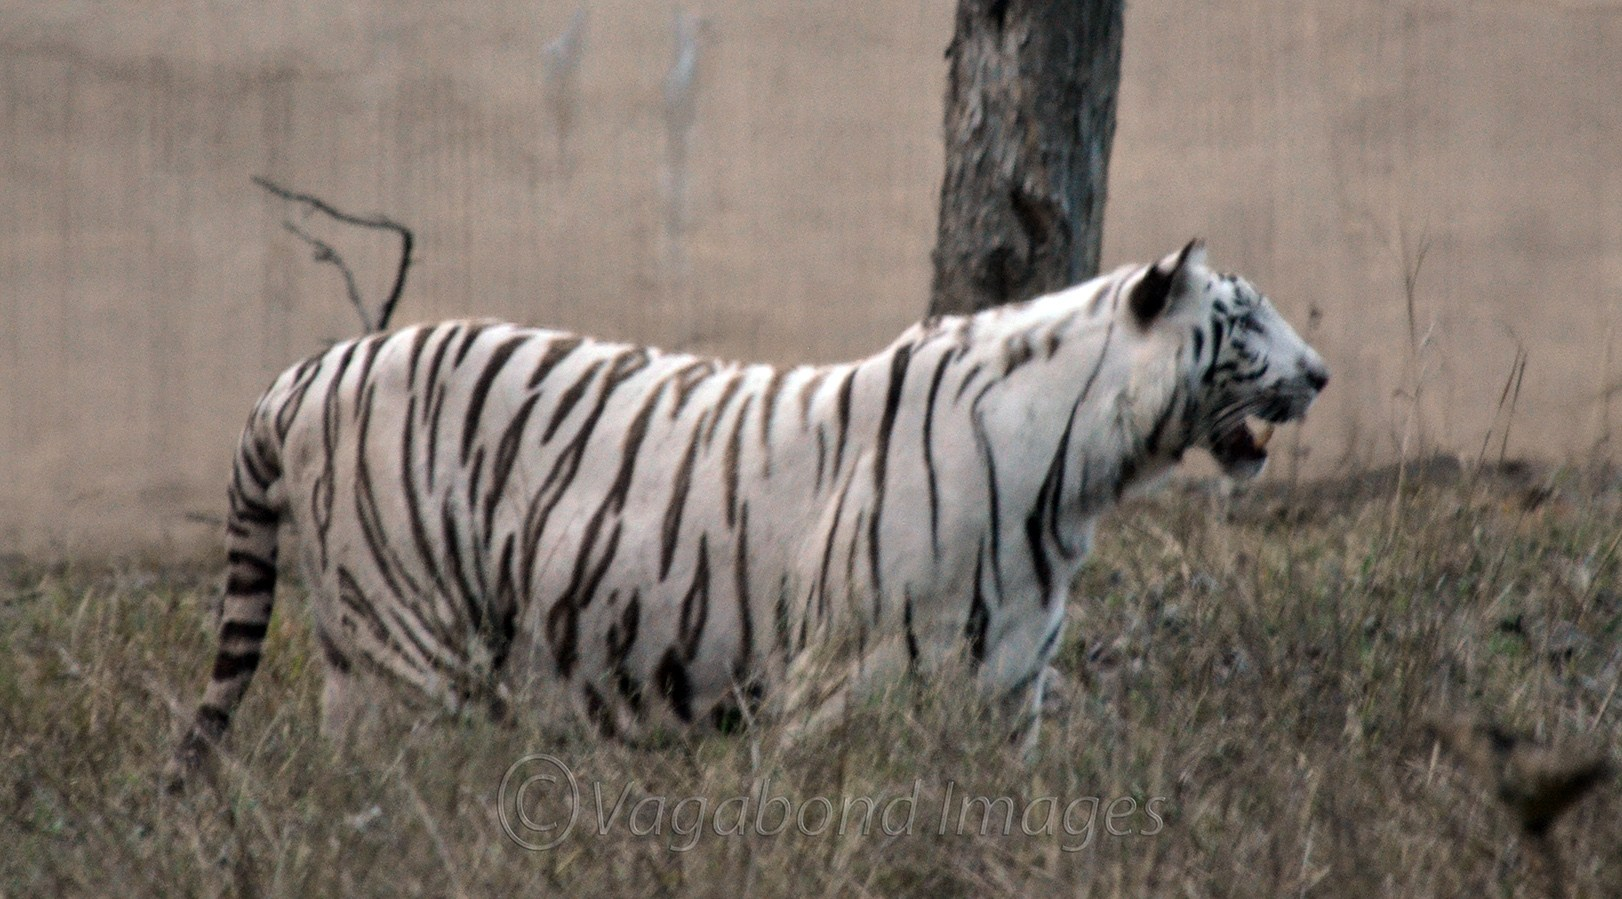tiger: (157, 234, 1341, 839)
